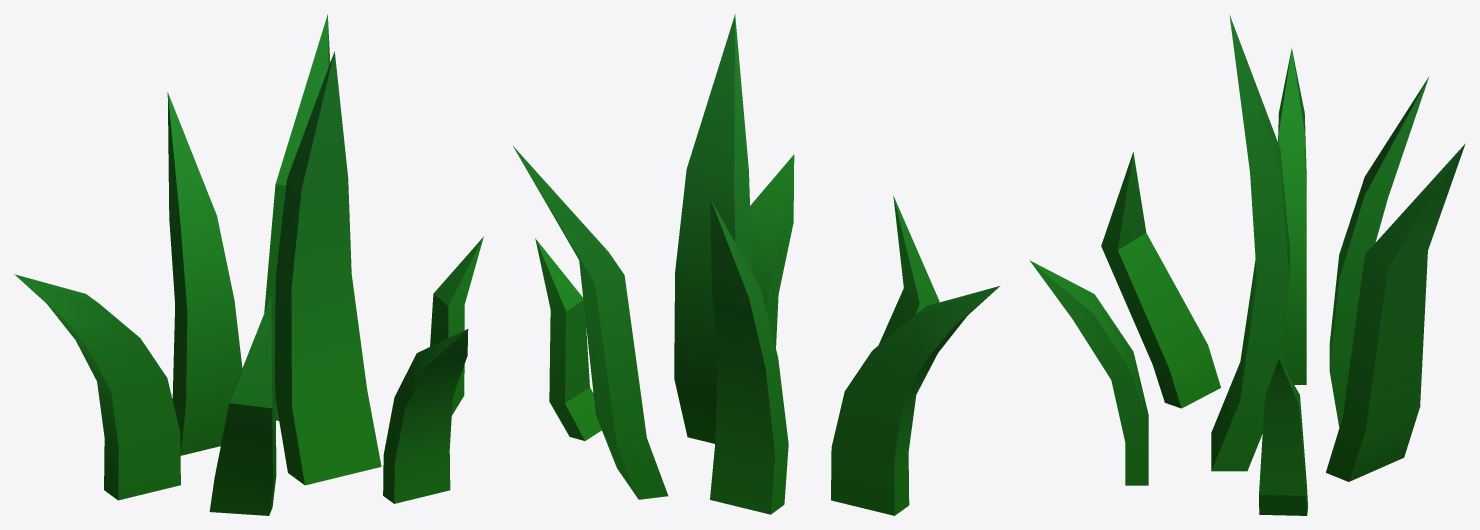
File: grasslowQuality.fbx
3 renders of one model, left to right at view 1: azimuth 30°, elevation 25°; view 2: azimuth 150°, elevation 25°; view 3: azimuth 270°, elevation 25°, orthographic. The views are drawn at different scales.
Visible parts, largest first — view 1: grass 4; view 2: grass 4; view 3: grass 4.
Part boxes in pixels (bbox=[...]): grass 4: bbox=[14, 14, 483, 515]; grass 4: bbox=[513, 14, 999, 515]; grass 4: bbox=[1029, 15, 1465, 515].
Size of the model in its own units: 106 by 91.49 by 82.62.
